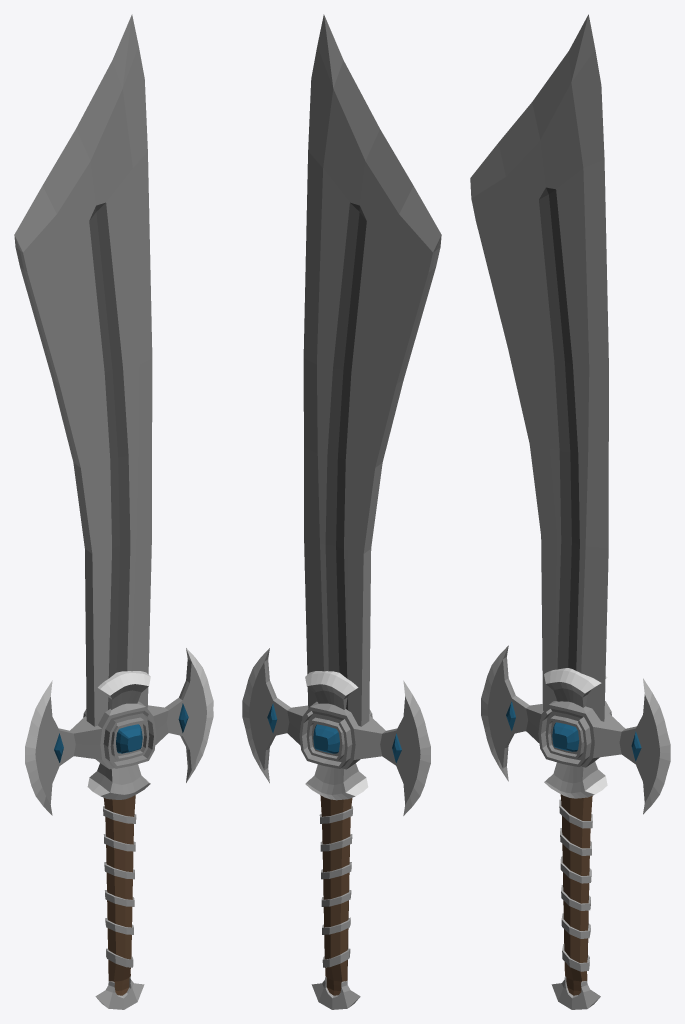
Rendered from w_saber.glb.
The picture shows the model from 3 angles, left to right: view 1: azimuth 30°, elevation 25°; view 2: azimuth 150°, elevation 25°; view 3: azimuth 330°, elevation 25°; orthographic projection.
Size of the model in its own units: 0.2106 by 1 by 0.0568.
